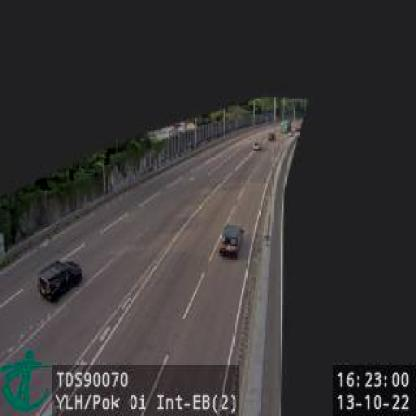Car: (37, 260, 83, 302), (219, 223, 245, 260)
